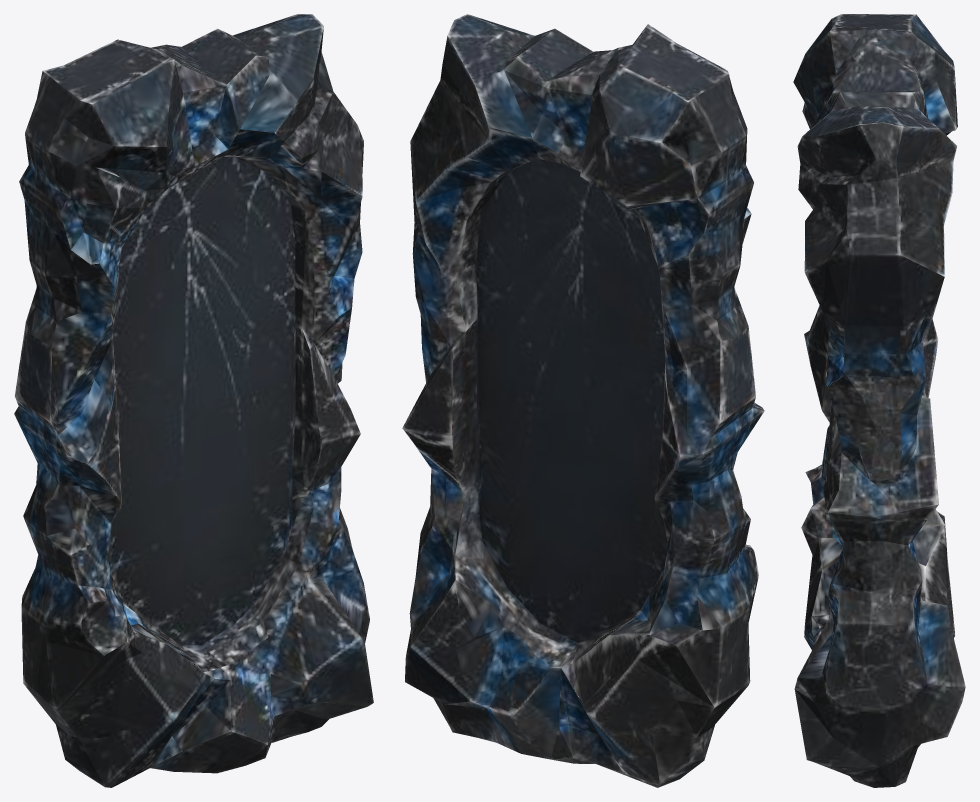
Rendered from glif-blue.glb.
3 renders of one model, left to right at view 1: azimuth 30°, elevation 25°; view 2: azimuth 150°, elevation 25°; view 3: azimuth 270°, elevation 25°, orthographic. The views are drawn at different scales.
Visible parts, largest first — view 1: Mesh_0; view 2: Mesh_0; view 3: Mesh_0.
Boxes of the visible parts, bbox=[...] form: Mesh_0: bbox=[14, 14, 373, 787]; Mesh_0: bbox=[402, 14, 764, 787]; Mesh_0: bbox=[793, 14, 965, 787].
Bounding box in the file's own units: 0.8673 × 1.91 × 0.4322.
Materials: 1 (1 with a texture image).
